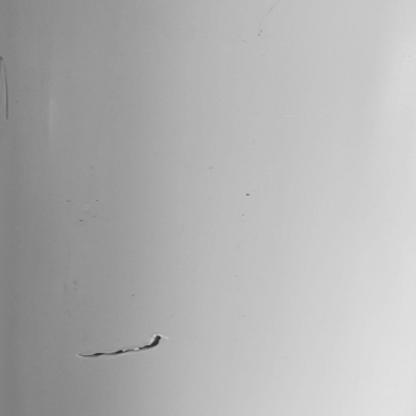fengxi: (72, 333, 160, 360)
